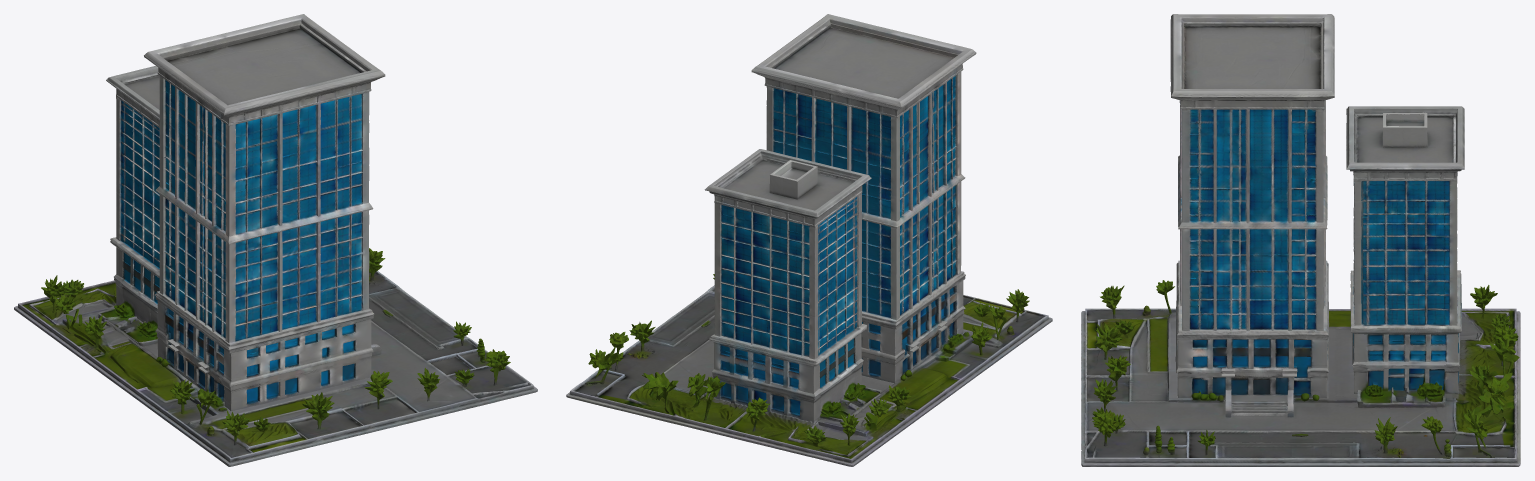
The model's file is city-building.glb.
3 renders of one model, left to right at view 1: azimuth 30°, elevation 25°; view 2: azimuth 150°, elevation 25°; view 3: azimuth 270°, elevation 25°, orthographic. The views are drawn at different scales.
Visible parts, largest first — view 1: tripo_node_f6657156-3f75-4ca9-bb54-f2b699c11a06; view 2: tripo_node_f6657156-3f75-4ca9-bb54-f2b699c11a06; view 3: tripo_node_f6657156-3f75-4ca9-bb54-f2b699c11a06.
Boxes of the visible parts, x1,y1,x2,y2 form: tripo_node_f6657156-3f75-4ca9-bb54-f2b699c11a06: (14, 14, 537, 466); tripo_node_f6657156-3f75-4ca9-bb54-f2b699c11a06: (566, 14, 1052, 466); tripo_node_f6657156-3f75-4ca9-bb54-f2b699c11a06: (1081, 14, 1520, 466).
Bounding box in the file's own units: 0.8265 × 0.805 × 0.9999.
1 material, 1 textured.
